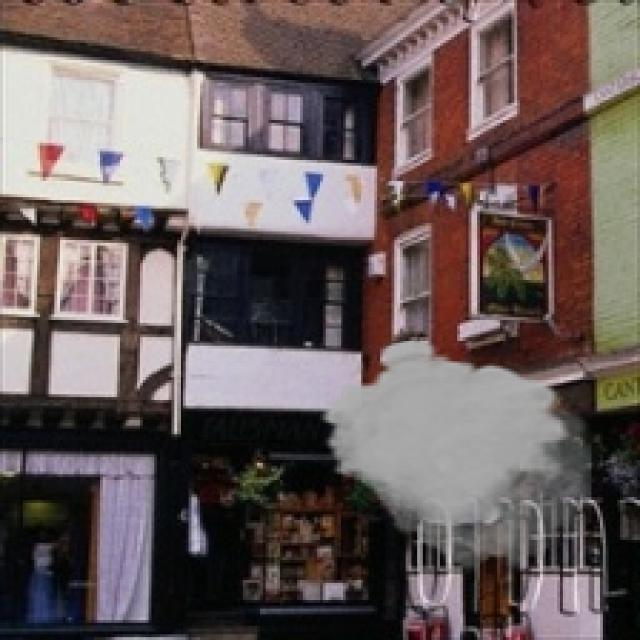Smoke: (317, 337, 592, 577)
